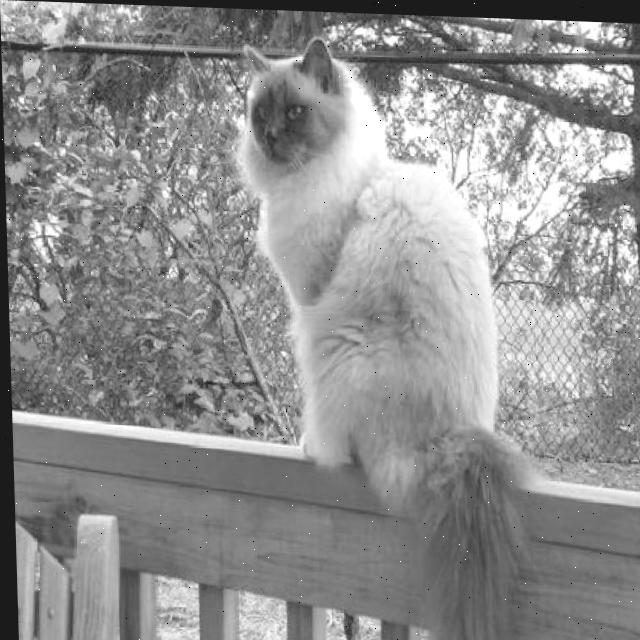Cat: (236, 32, 519, 640)
